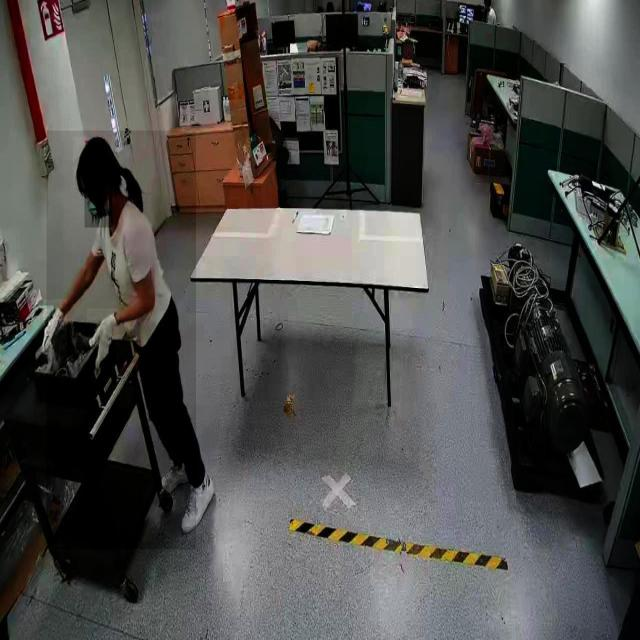face_mask: (84, 178, 112, 228)
hand_glove: (87, 308, 119, 382), (43, 300, 67, 370)
head_nohelmet: (73, 137, 116, 187)
person: (46, 131, 196, 550)
shoes: (180, 470, 216, 532), (158, 454, 194, 494)
